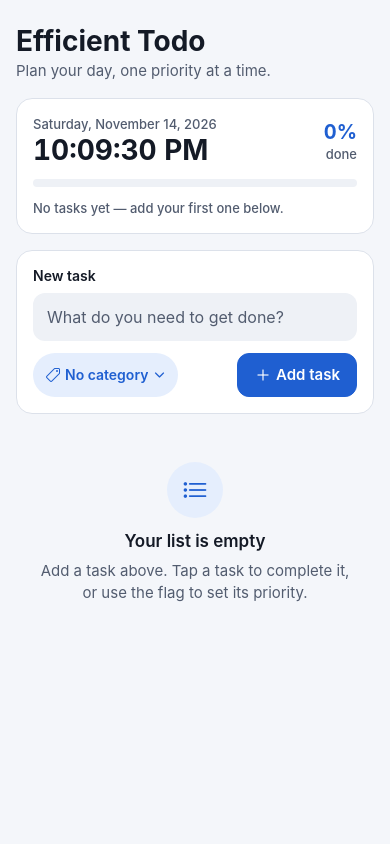
Test case: App › toggles completion and filters
This screenshot has width=390, height=844.
Expected: the text "Your list is empty" is shown, [124,530,266,552]
Type "Ship it" into the field named "New task" at (195, 317), box [33,293,357,341]
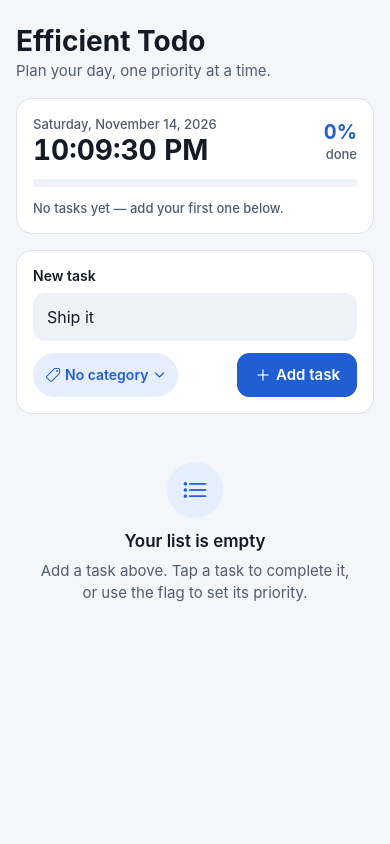
Click the button "Add task" at (297, 375), box [237,353,357,397]
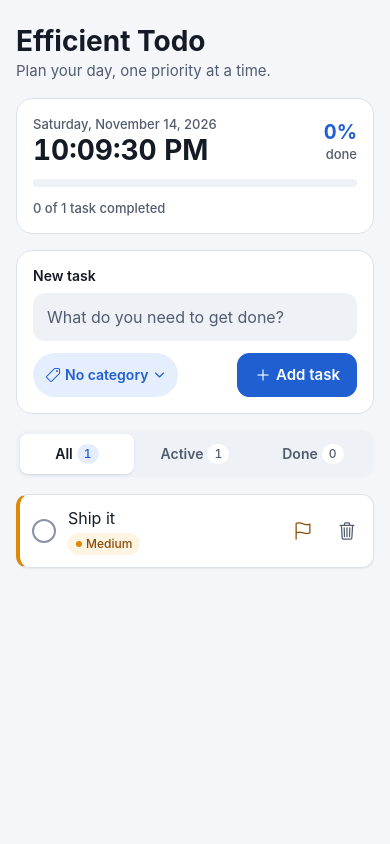
Click the checkbox labelled "Ship it" at (86, 532), box [32,508,140,555]
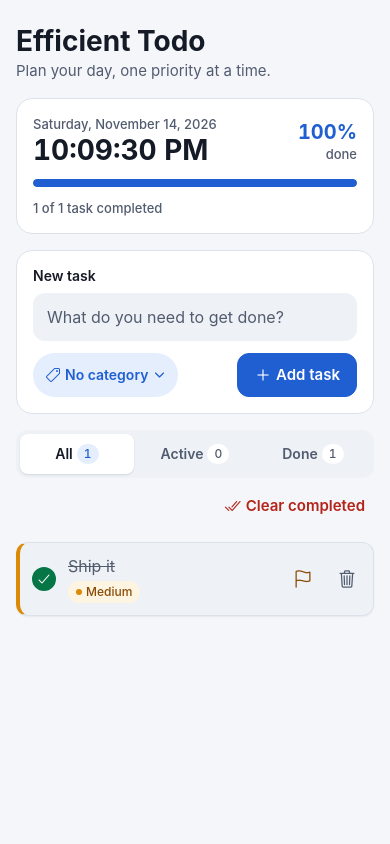
Now the text "1 of 1 task completed" is shown, box [33,200,162,216]
Click the tab "Active 0" at (195, 454), box [160,444,230,464]
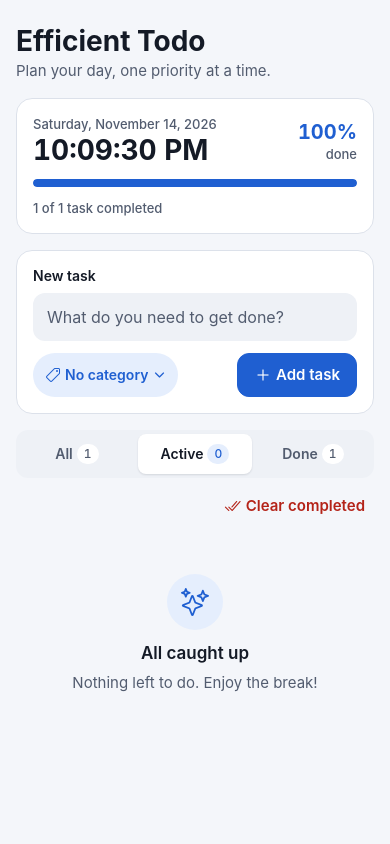
Now the text "All caught up" is shown, box [141,642,249,664]
